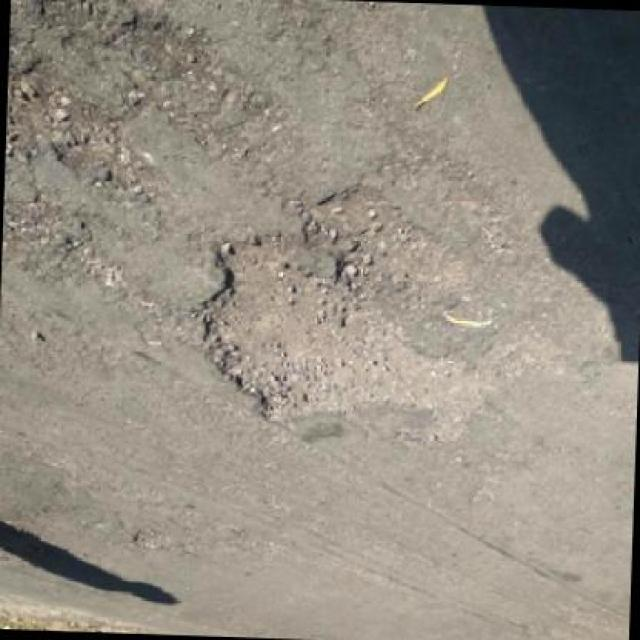pothole1: (189, 178, 526, 450)
